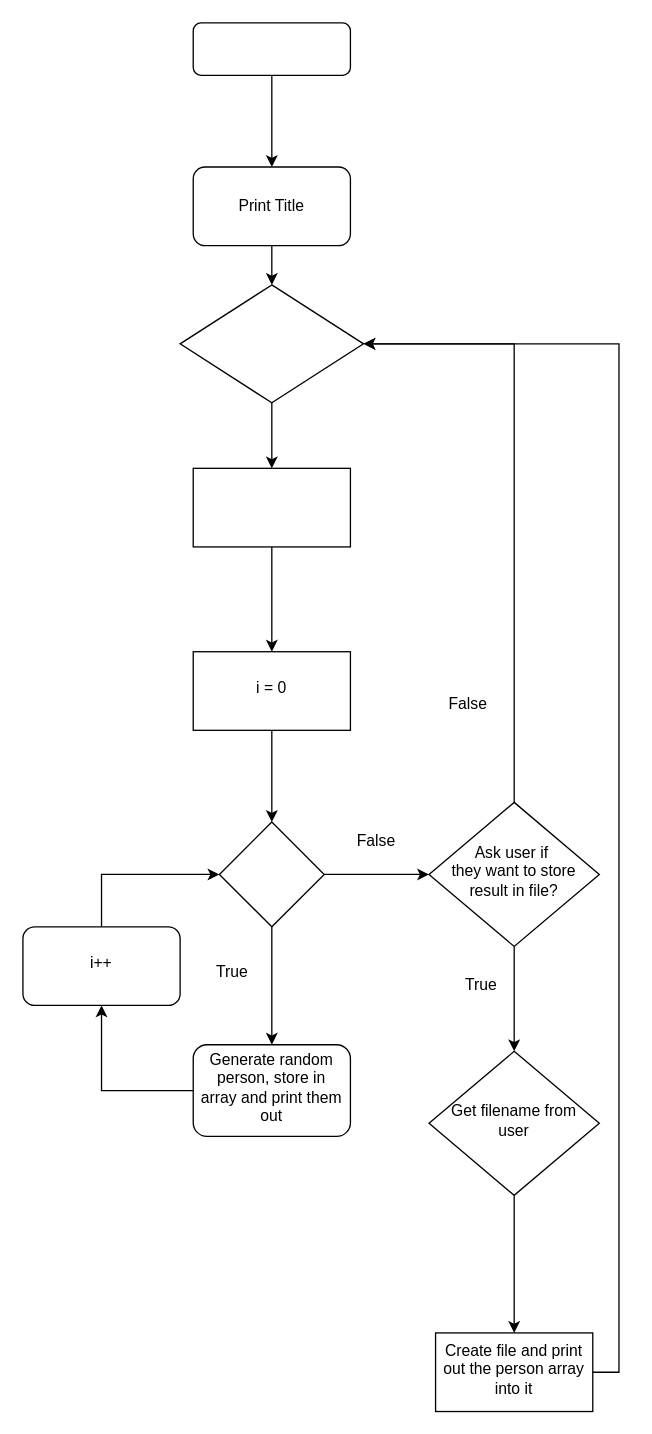
Some shapes in this 652 by 1434 pixel diagram are drawn without their labels. Each missing label, with the centre of its shape:
"Begin" goes at (271,48).
"Create array of n people" goes at (271,507).
"Get the amount of people to generate" goes at (271,343).
"i < n" goes at (271,874).
